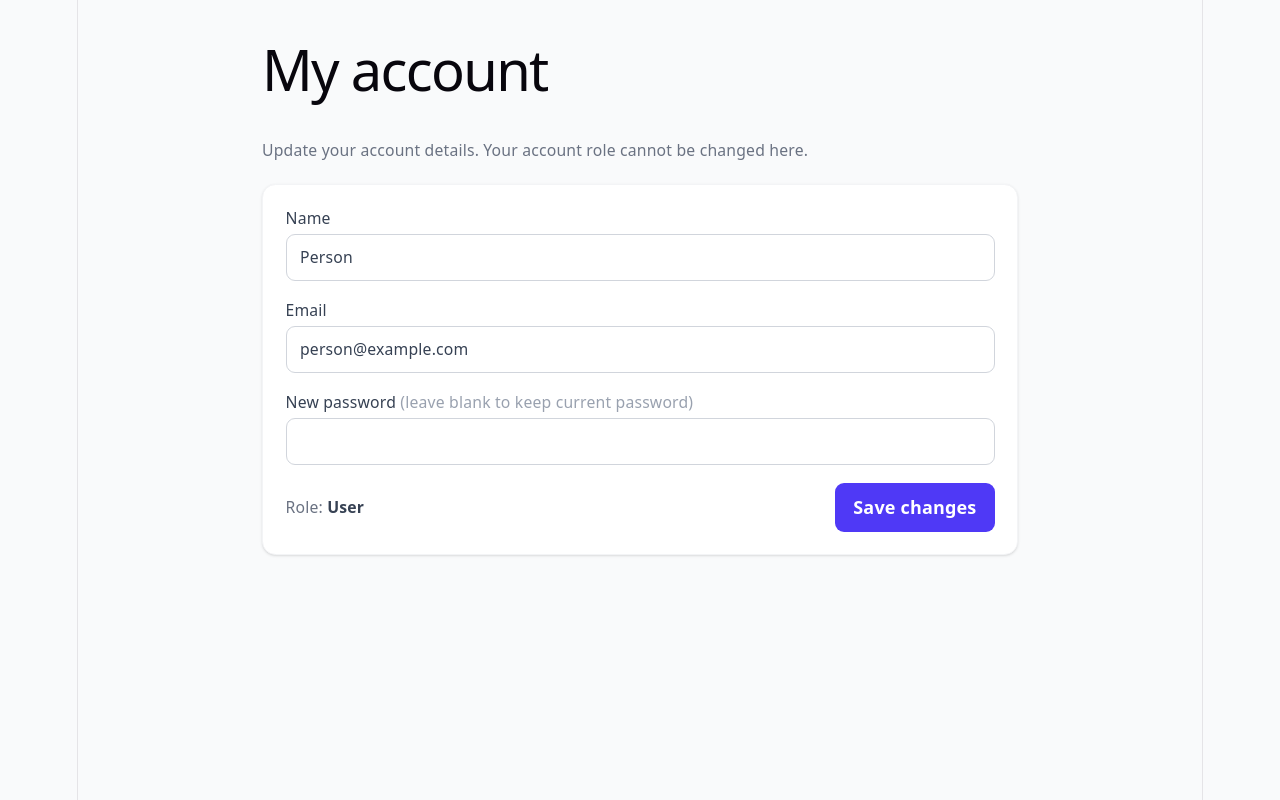
Scenario: UserProfile › submits the profile, updates the parent, and clears the password
Replace the text in the field labelled "Name" with "Updated" at (640, 258), box top-left (286, 234), bottom-right (994, 281)
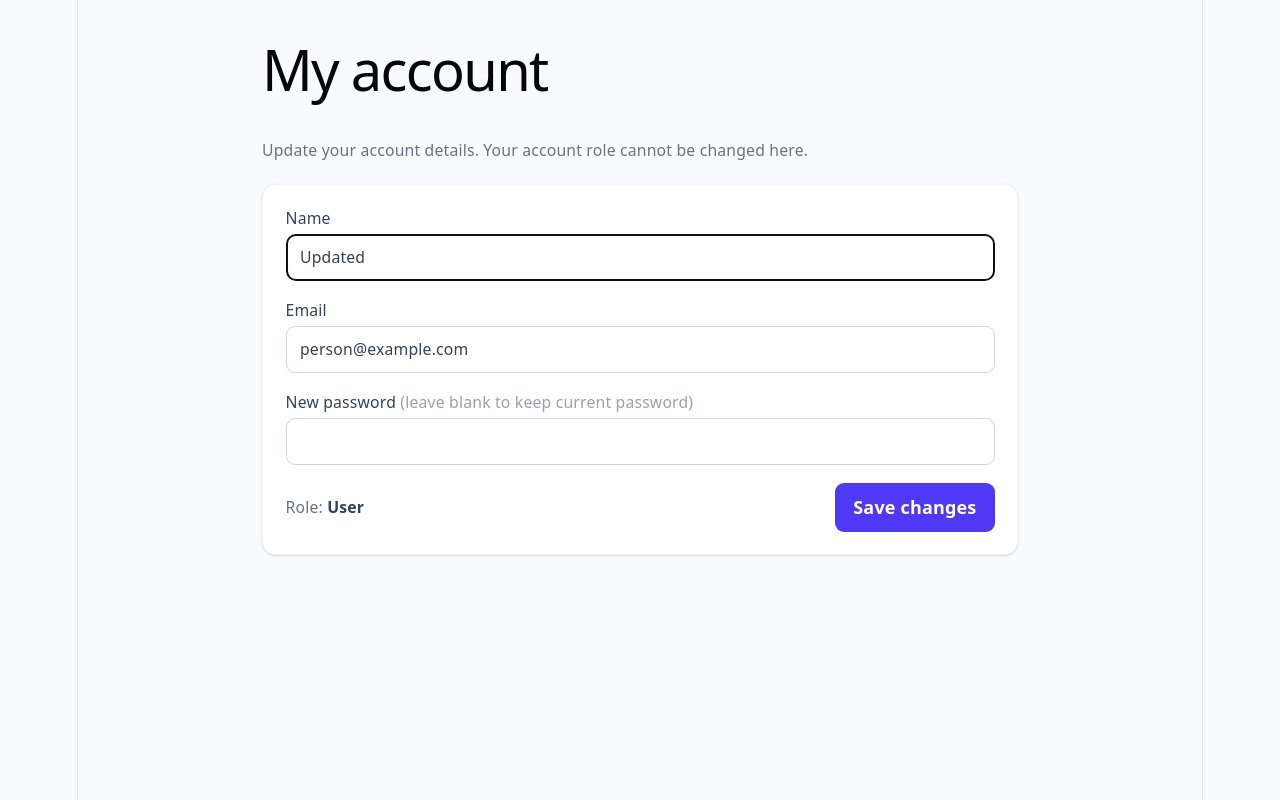
Type "newpassword123" into the password field labelled "New password (leave blank to keep current password)" at (640, 442), box top-left (286, 418), bottom-right (994, 465)
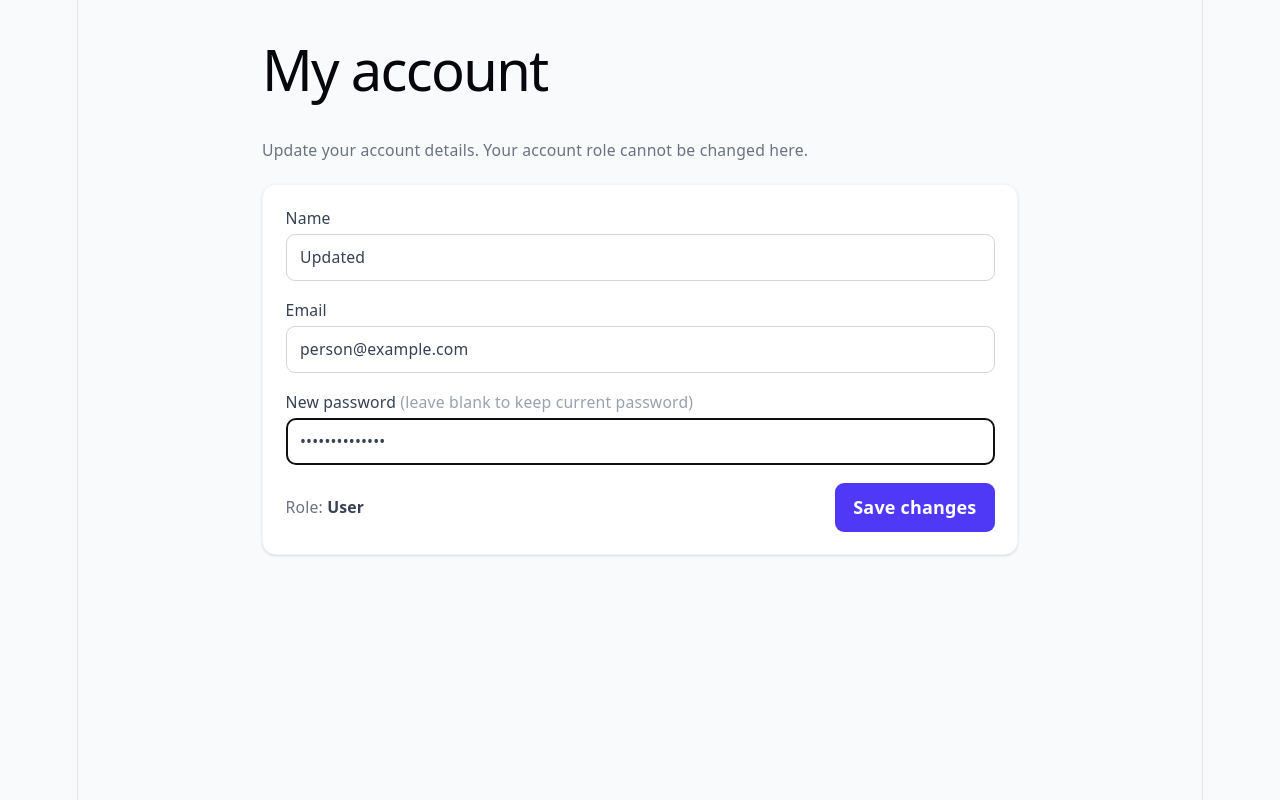
Click the button "Save changes" at (915, 508), box top-left (835, 483), bottom-right (994, 532)
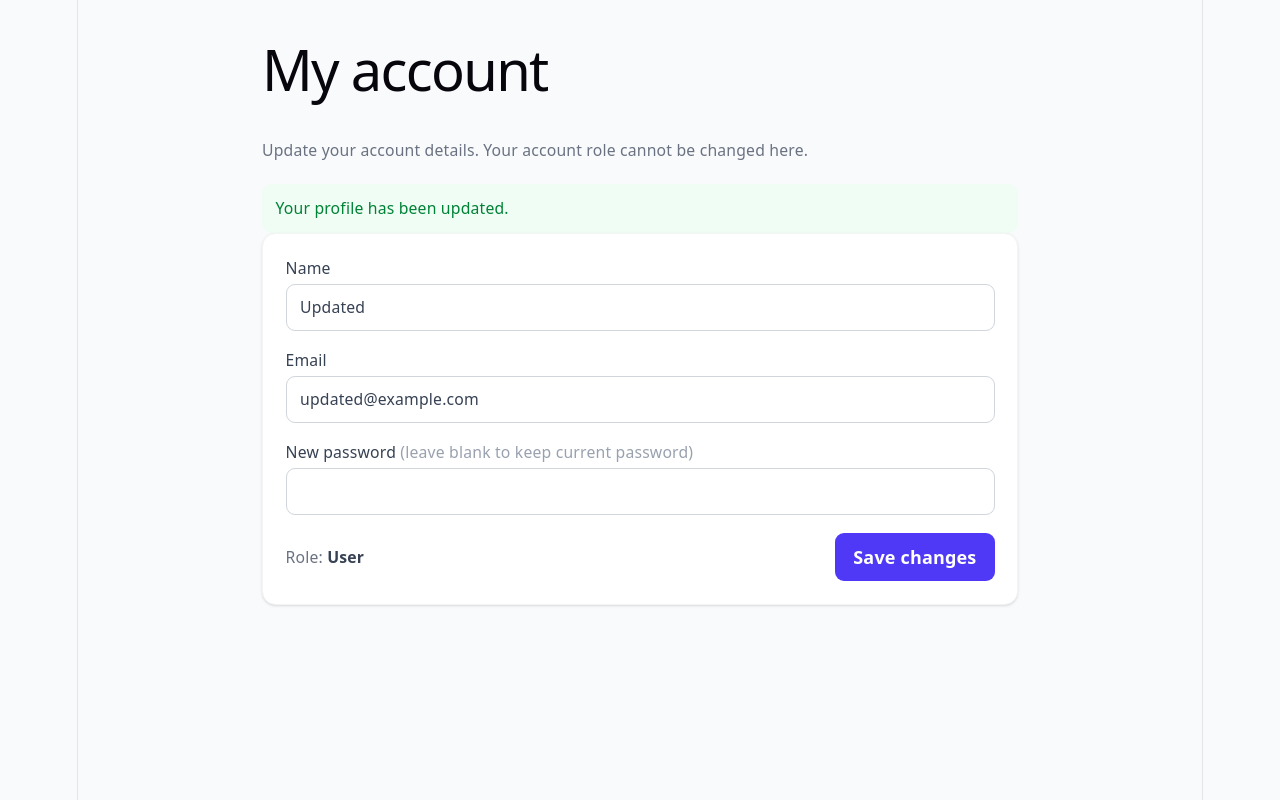
expect the text "User" is shown: met, box top-left (327, 546), bottom-right (364, 568)
expect the message shows "profile has been updated": met, box top-left (276, 197), bottom-right (509, 219)
expect the password field labelled "New password (leave blank to keep current password)" is empty: met, box top-left (286, 468), bottom-right (994, 515)
